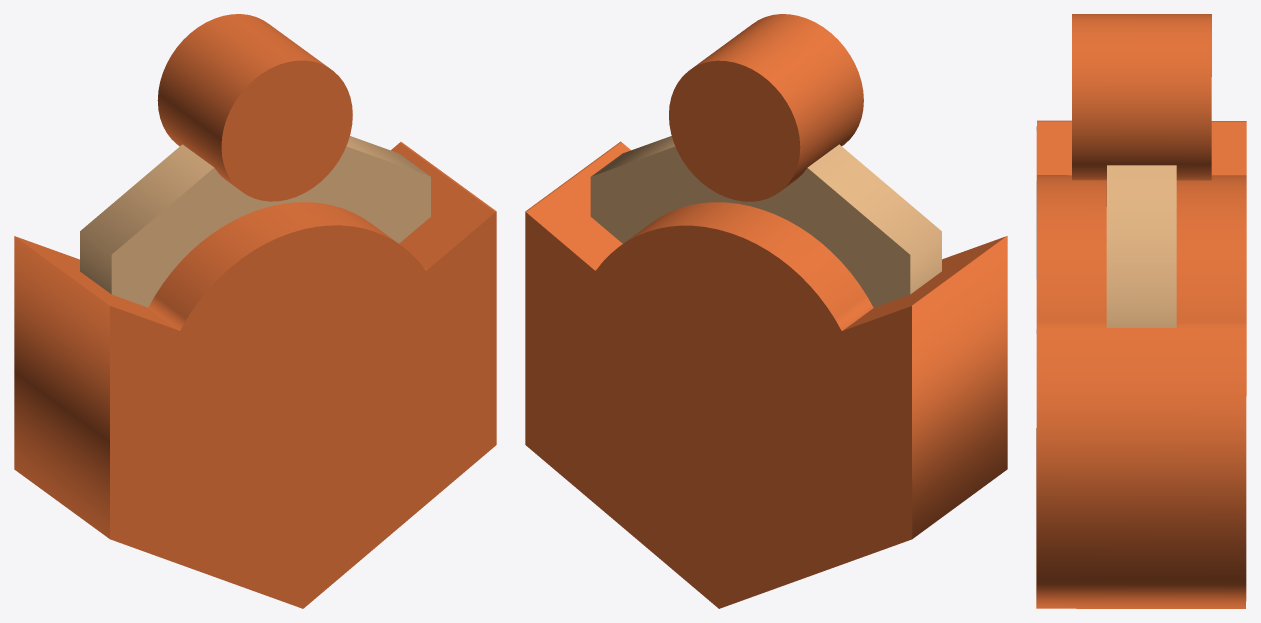
The model's file is menutech5.gltf.
The picture shows the model from 3 angles, left to right: view 1: azimuth 30°, elevation 25°; view 2: azimuth 150°, elevation 25°; view 3: azimuth 270°, elevation 25°; orthographic projection. The views are drawn at different scales.
Visible parts, largest first — view 1: Curve.002, Curve.001, Curve; view 2: Curve.002, Curve.001, Curve; view 3: Curve.002, Curve.001, Curve.
Part boxes in pixels (x1=…): Curve.002: x1=14, y1=142, x2=496, y2=608; Curve.001: x1=157, y1=14, x2=352, y2=201; Curve: x1=80, y1=136, x2=430, y2=307; Curve.002: x1=525, y1=141, x2=1007, y2=608; Curve.001: x1=669, y1=14, x2=863, y2=201; Curve: x1=590, y1=136, x2=941, y2=307; Curve.002: x1=1036, y1=120, x2=1246, y2=608; Curve.001: x1=1072, y1=14, x2=1211, y2=180; Curve: x1=1106, y1=165, x2=1176, y2=327.
Size of the model in its own units: 11.52 by 15.23 by 4.94.
